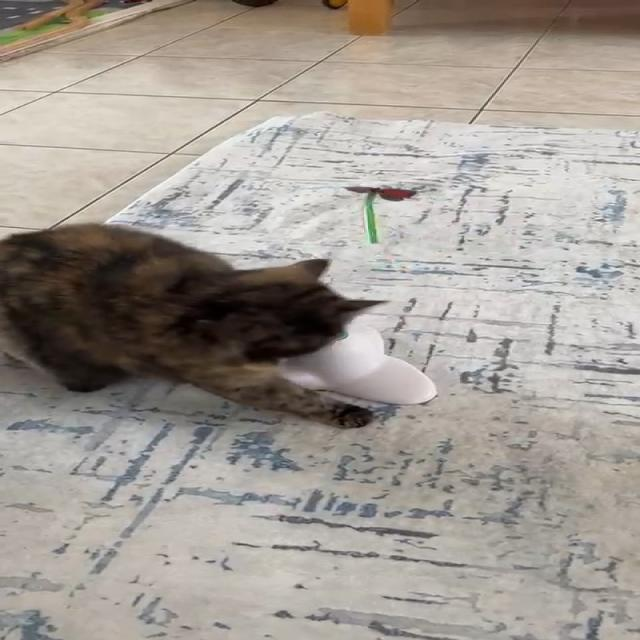authorized: (0, 221, 391, 430)
